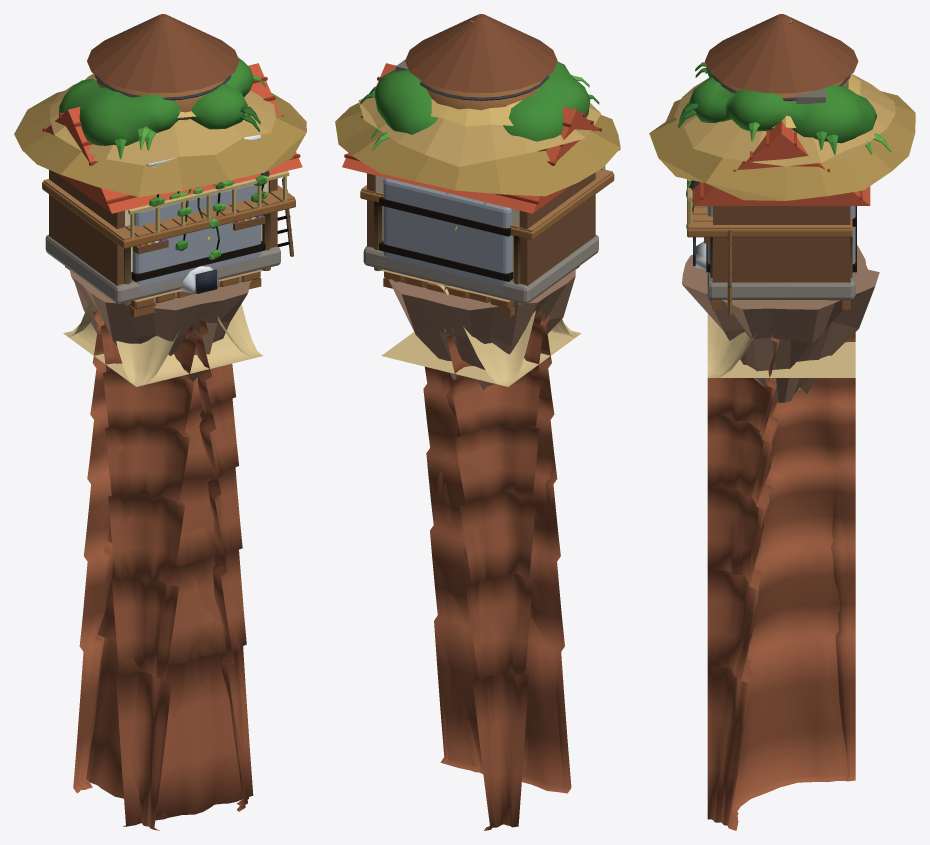
Rendered from terrain.glb.
3 renders of one model, left to right at view 1: azimuth 30°, elevation 25°; view 2: azimuth 150°, elevation 25°; view 3: azimuth 270°, elevation 25°, orthographic.
Visible parts, largest first — view 1: chasm_concave_0, stiltHut, chasm_saddle_0, cottage, chasm_half_2, waterTower, chasm_half_0, jungleTree, chasm_half_1, crumble, metal, chasm_convex_0 (+9 smaller); view 2: chasm_saddle_0, stiltHut, chasm_half_1, cottage, metal, waterTower, crumble, chasm_convex_0, jungleTree, chasm_half_0, chasm_half_2, bank_full_0 (+4 smaller); view 3: chasm_convex_0, chasm_saddle_0, stiltHut, cottage, crumble, waterTower, jungleTree, bank_full_0, bank_saddle_0, chasm_half_1, chasm_half_2, chasm_half_0 (+1 smaller).
Part boxes in pixels (x1=…): chasm_concave_0: x1=101, y1=270, x2=260, y2=830; stiltHut: x1=14, y1=73, x2=306, y2=305; chasm_saddle_0: x1=73, y1=290, x2=248, y2=811; cottage: x1=42, y1=63, x2=302, y2=303; chasm_half_2: x1=110, y1=378, x2=238, y2=826; waterTower: x1=87, y1=14, x2=269, y2=176; chasm_half_0: x1=102, y1=325, x2=253, y2=826; jungleTree: x1=58, y1=57, x2=265, y2=159; chasm_half_1: x1=103, y1=337, x2=235, y2=826; crumble: x1=69, y1=269, x2=251, y2=381; metal: x1=131, y1=179, x2=265, y2=293; chasm_convex_0: x1=86, y1=469, x2=226, y2=804; chasm_saddle_0: x1=392, y1=273, x2=543, y2=830; stiltHut: x1=335, y1=20, x2=620, y2=305; chasm_half_1: x1=423, y1=370, x2=571, y2=793; cottage: x1=342, y1=59, x2=620, y2=303; metal: x1=379, y1=178, x2=513, y2=294; waterTower: x1=405, y1=14, x2=557, y2=110; crumble: x1=389, y1=269, x2=575, y2=390; chasm_convex_0: x1=387, y1=271, x2=493, y2=829; jungleTree: x1=360, y1=61, x2=599, y2=151; chasm_half_0: x1=389, y1=271, x2=564, y2=772; chasm_half_2: x1=437, y1=345, x2=560, y2=772; bank_full_0: x1=381, y1=332, x2=567, y2=385; chasm_convex_0: x1=732, y1=335, x2=855, y2=811; chasm_saddle_0: x1=707, y1=332, x2=855, y2=830; stiltHut: x1=649, y1=19, x2=915, y2=315; cottage: x1=693, y1=89, x2=870, y2=299; crumble: x1=682, y1=245, x2=879, y2=402; waterTower: x1=689, y1=14, x2=858, y2=191; jungleTree: x1=678, y1=62, x2=891, y2=154; bank_full_0: x1=709, y1=342, x2=855, y2=377; bank_saddle_0: x1=707, y1=313, x2=757, y2=377; chasm_half_1: x1=729, y1=351, x2=777, y2=828; chasm_half_2: x1=731, y1=343, x2=778, y2=816; chasm_half_0: x1=728, y1=337, x2=779, y2=827.
Bounding box in the file's own units: 1.99 × 5.85 × 1.8.
